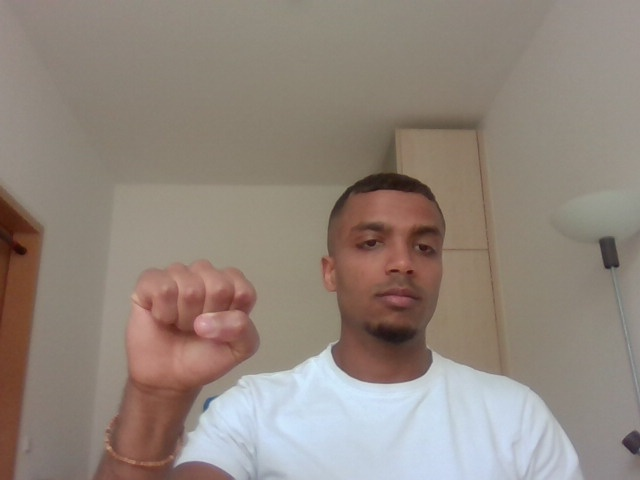maybe: (114, 254, 274, 400)
